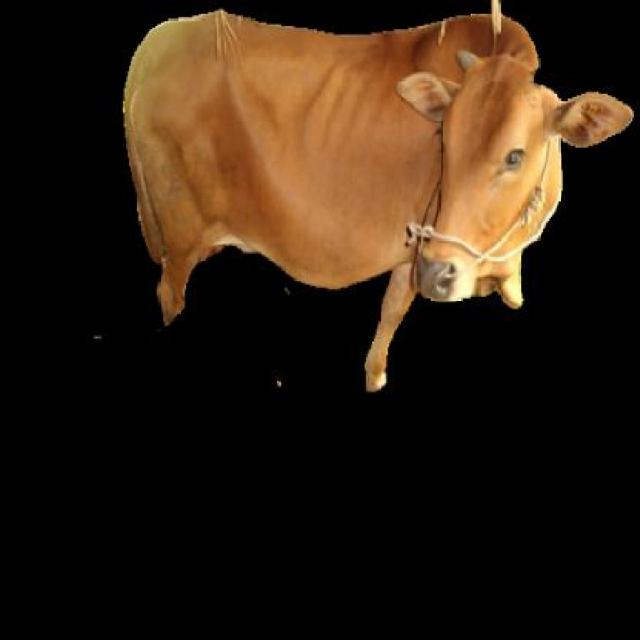Cow: (117, 11, 632, 394)
